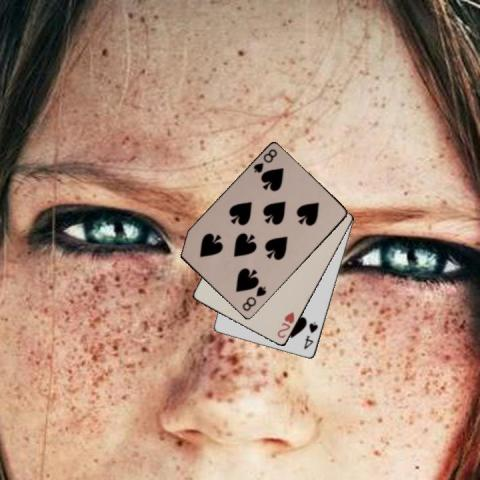2h: (274, 309, 296, 340)
4s: (301, 318, 319, 350)
8s: (239, 283, 268, 313), (250, 146, 279, 175)
